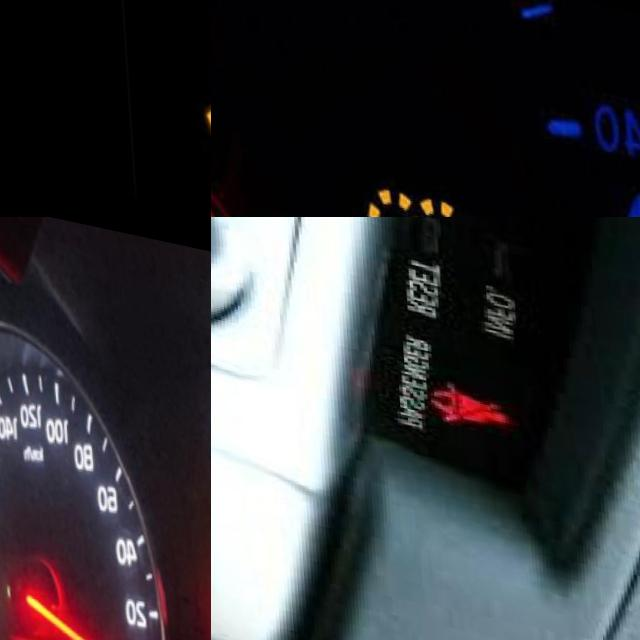Seat Belt: (426, 372, 507, 421)
Washer Fluid: (337, 165, 494, 217)
